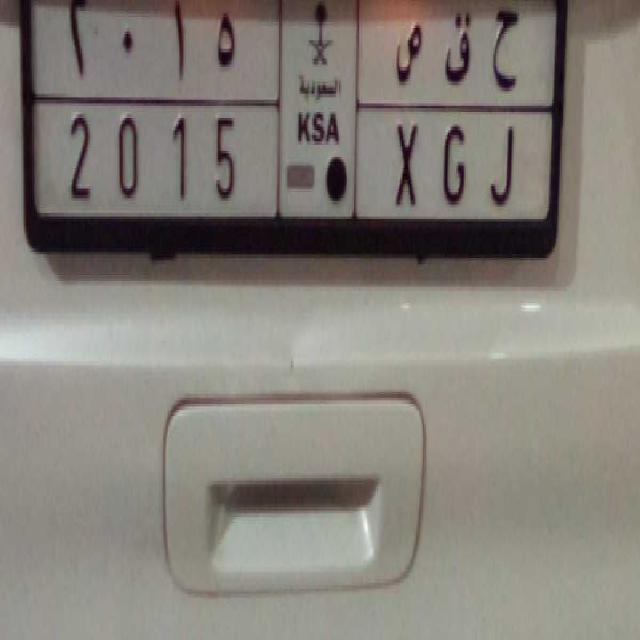license_plate: (34, 91, 540, 223)
